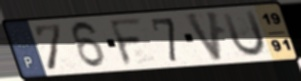6: (70, 19, 110, 72)
7: (32, 23, 66, 73), (148, 16, 179, 63)
F: (107, 17, 146, 68)
U: (219, 9, 268, 60)
V: (182, 9, 226, 64)
